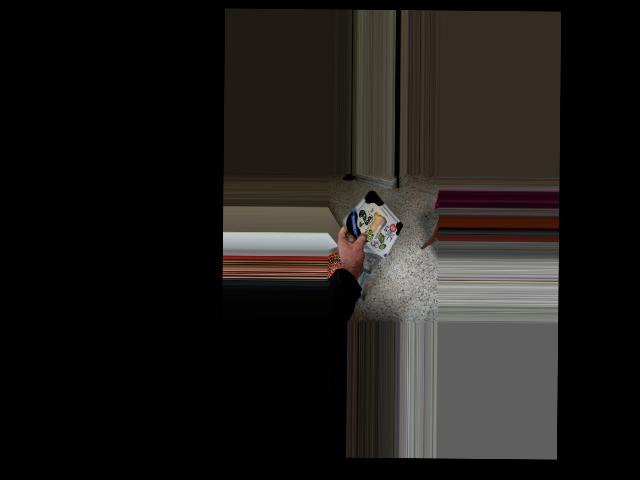cheese: (329, 199, 406, 248)
